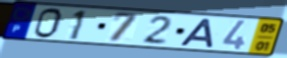0: (32, 7, 65, 39)
1: (69, 9, 89, 40)
2: (140, 15, 174, 46)
4: (220, 19, 247, 52)
7: (108, 11, 142, 43)
A: (177, 17, 216, 49)
